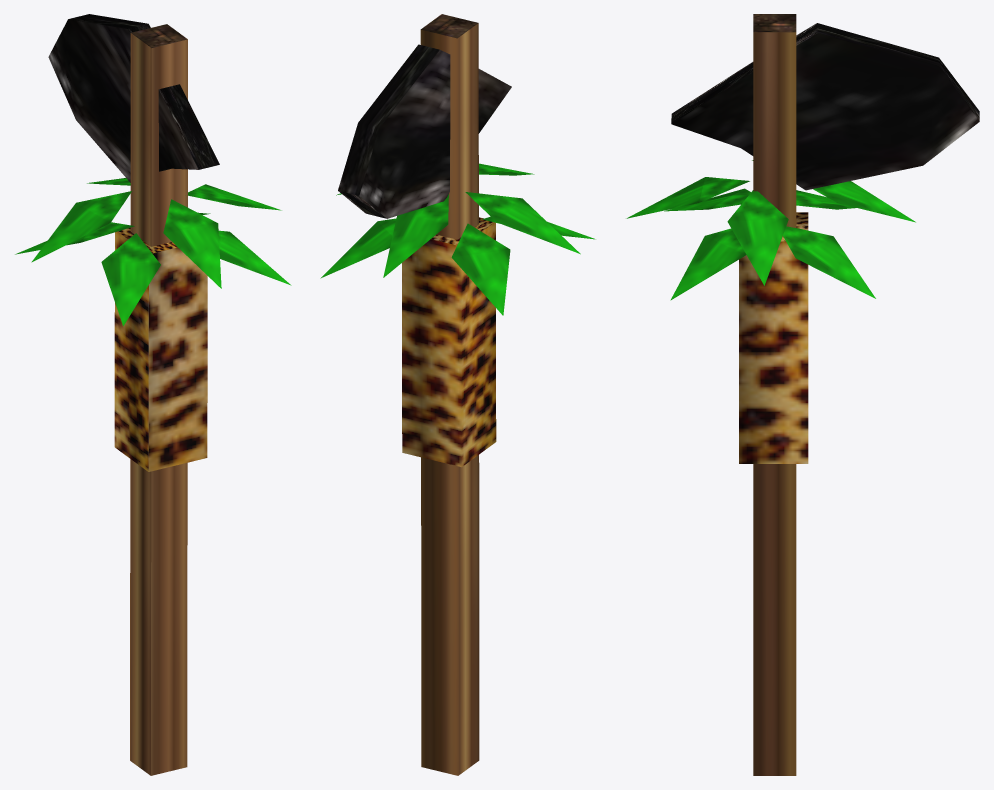
The model's file is maya_machado_a1.dae.
The picture shows the model from 3 angles, left to right: view 1: azimuth 30°, elevation 25°; view 2: azimuth 150°, elevation 25°; view 3: azimuth 270°, elevation 25°; orthographic projection. The views are drawn at different scales.
Visible parts, largest first — view 1: maya_machado_a1; view 2: maya_machado_a1; view 3: maya_machado_a1.
Part boxes in pixels (<box>): maya_machado_a1: <box>15,14,291,775</box>; maya_machado_a1: <box>320,14,595,775</box>; maya_machado_a1: <box>626,14,979,775</box>.
Bounding box in the file's own units: 0.699 × 0.8485 × 1.97.
1 material, 1 textured.
